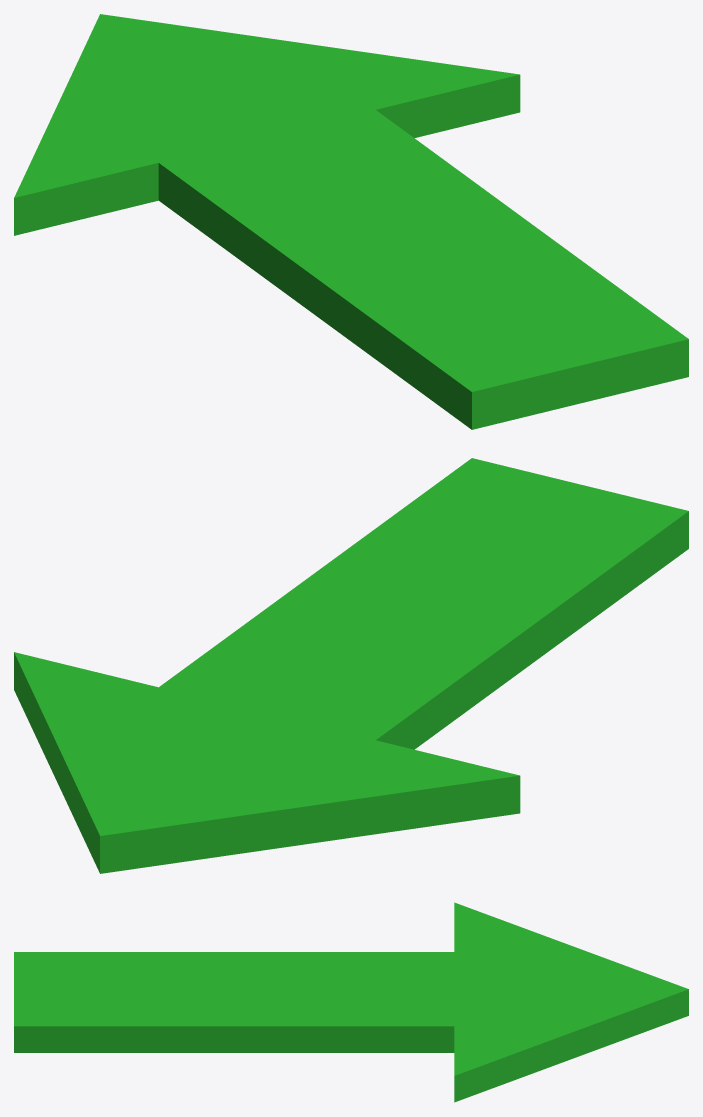
File: arrow v1.fbx
The picture shows the model from 3 angles, top to bottom: view 1: azimuth 30°, elevation 25°; view 2: azimuth 150°, elevation 25°; view 3: azimuth 270°, elevation 25°; orthographic projection. The views are drawn at different scales.
Visible parts, largest first — view 1: Body1; view 2: Body1; view 3: Body1.
Part boxes in pixels (x1=…): Body1: x1=14, y1=14, x2=688, y2=429; Body1: x1=14, y1=458, x2=688, y2=873; Body1: x1=14, y1=902, x2=688, y2=1102.
Bounding box in the file's own units: 7 × 0.5 × 11.5.
